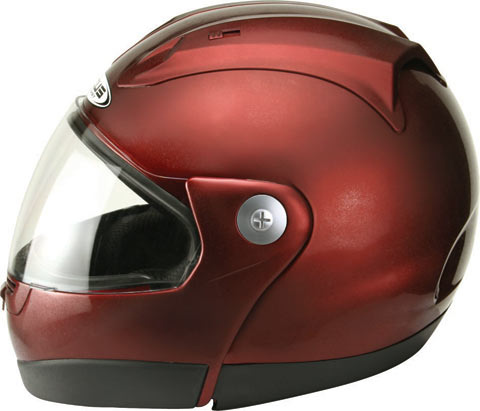helmet: (10, 7, 462, 407)
